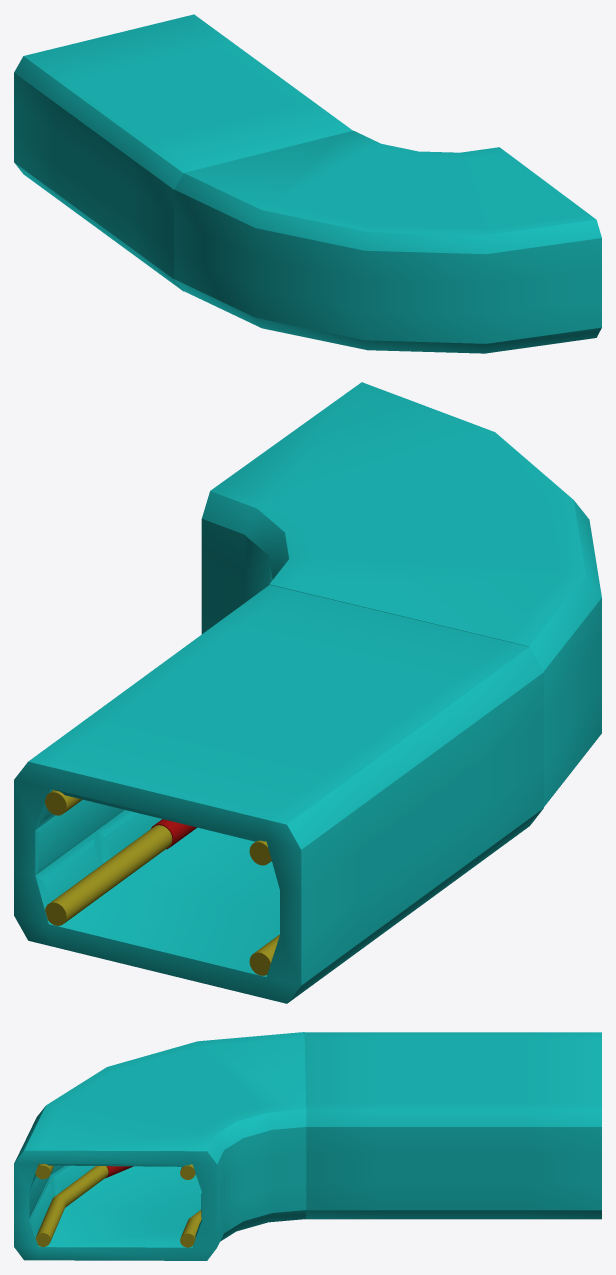
Rendered from dernier couloir.fbx.
The picture shows the model from 3 angles, top to bottom: view 1: azimuth 30°, elevation 25°; view 2: azimuth 150°, elevation 25°; view 3: azimuth 270°, elevation 25°; orthographic projection. The views are drawn at different scales.
Parts seen in each view (by area): view 1: Box046; view 2: Box046; view 3: Box046.
Boxes of the visible parts, left/top/right/bottom form: Box046: left=14, top=14, right=601, bottom=353; Box046: left=14, top=382, right=601, bottom=1003; Box046: left=14, top=1032, right=601, bottom=1260.
Bounding box in the file's own units: 4017 × 1668 × 8074.
